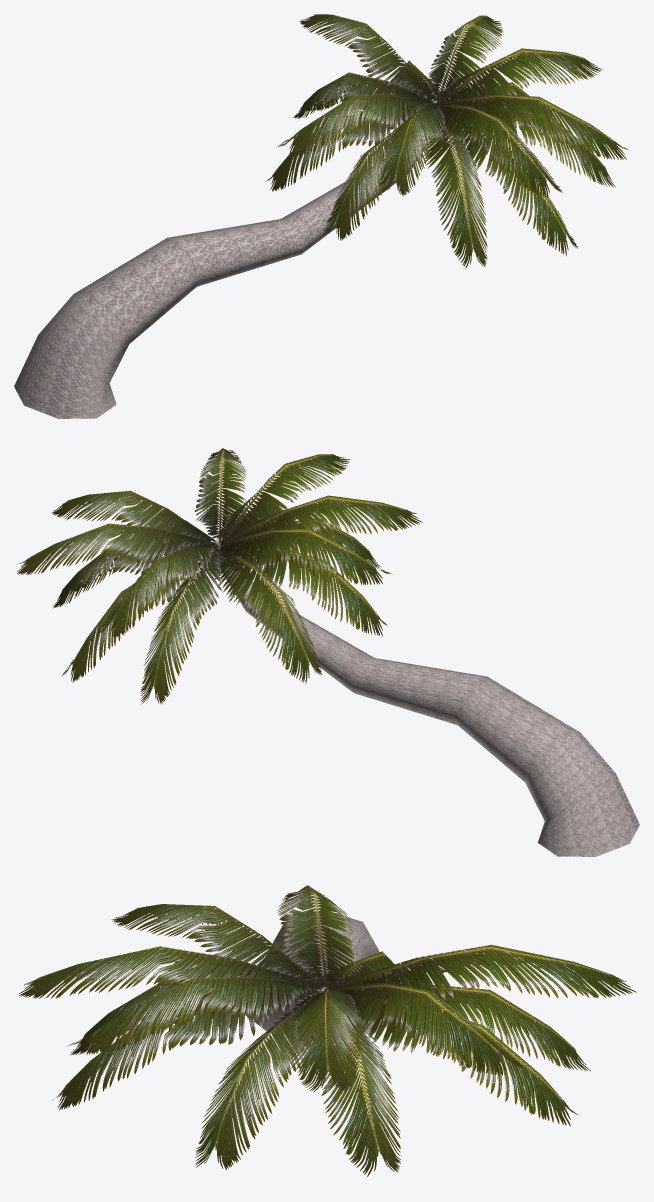
Rendered from palmtree_1.fbx.
The picture shows the model from 3 angles, top to bottom: view 1: azimuth 30°, elevation 25°; view 2: azimuth 150°, elevation 25°; view 3: azimuth 270°, elevation 25°; orthographic projection. The views are drawn at different scales.
Visible parts, largest first — view 1: palmtree7; view 2: palmtree7; view 3: palmtree7.
Boxes of the visible parts, box(x1,y1,x2,y2) form: palmtree7: box(14, 14, 628, 418); palmtree7: box(16, 448, 639, 856); palmtree7: box(19, 885, 636, 1176).
Size of the model in its own units: 9.1 by 3.54 by 6.77.
